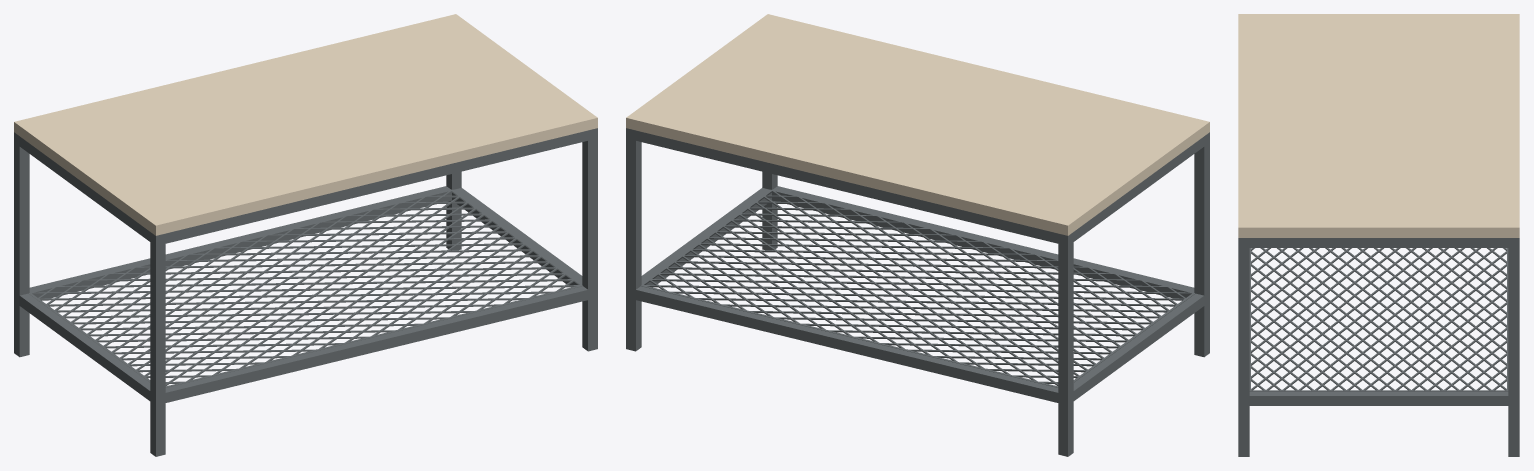
The model's file is mesa-ratona-industrial-900x500x450.glb.
3 renders of one model, left to right at view 1: azimuth 30°, elevation 25°; view 2: azimuth 150°, elevation 25°; view 3: azimuth 270°, elevation 25°, orthographic.
Visible parts, largest first — view 1: Tablero 900×500×20, Chapa 2 mm — 860×460, Caño 20×20 ×1.6 — 860 mm (×3), Caño 20×20 ×1.6 — 430 mm (×4), Caño 20×20 ×1.6 — 460 mm (×3); view 2: Tablero 900×500×20, Chapa 2 mm — 860×460, Caño 20×20 ×1.6 — 860 mm (×3), Caño 20×20 ×1.6 — 430 mm (×4), Caño 20×20 ×1.6 — 460 mm (×3); view 3: Tablero 900×500×20, Chapa 2 mm — 860×460, Caño 20×20 ×1.6 — 460 mm (×2), Caño 20×20 ×1.6 — 430 mm (×2).
Part boxes in pixels (<box>): Tablero 900×500×20: <box>14,14,597,235</box>; Chapa 2 mm — 860×460: <box>28,189,582,387</box>; Caño 20×20 ×1.6 — 860 mm (×3): <box>29,130,587,402</box>; Caño 20×20 ×1.6 — 430 mm (×4): <box>14,128,597,456</box>; Caño 20×20 ×1.6 — 460 mm (×3): <box>19,136,582,400</box>; Tablero 900×500×20: <box>626,14,1209,235</box>; Chapa 2 mm — 860×460: <box>641,189,1195,387</box>; Caño 20×20 ×1.6 — 860 mm (×3): <box>636,130,1194,402</box>; Caño 20×20 ×1.6 — 430 mm (×4): <box>626,128,1209,456</box>; Caño 20×20 ×1.6 — 460 mm (×3): <box>641,136,1204,400</box>; Tablero 900×500×20: <box>1238,14,1519,237</box>; Chapa 2 mm — 860×460: <box>1249,248,1508,391</box>; Caño 20×20 ×1.6 — 460 mm (×2): <box>1249,238,1508,405</box>; Caño 20×20 ×1.6 — 430 mm (×2): <box>1238,238,1519,456</box>.
Size of the model in its own units: 0.9 by 0.45 by 0.5.
Materials: 2 (1 with a texture image).
